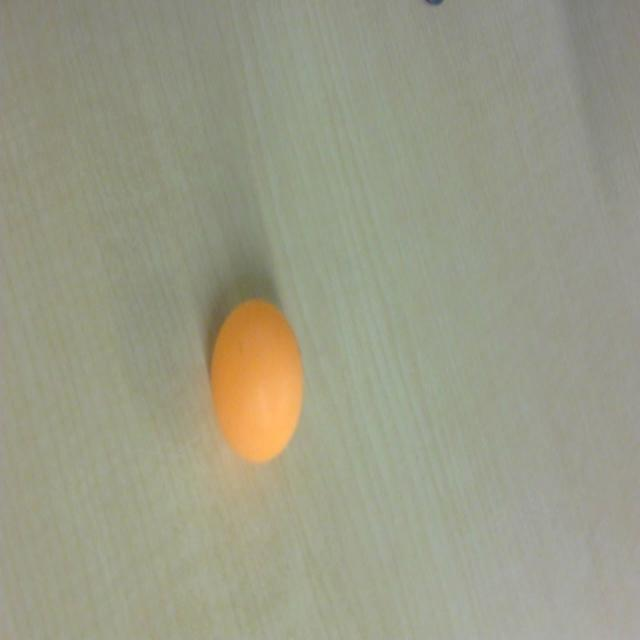ball: (208, 298, 306, 467)
